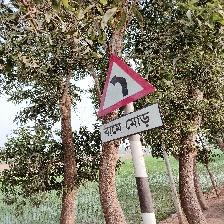Left-Turn: (96, 52, 164, 146)
